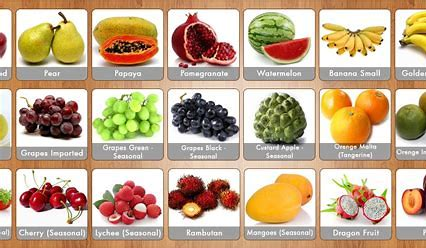inorganic: (169, 11, 237, 66), (248, 8, 313, 61), (328, 168, 389, 223), (248, 169, 313, 220), (323, 13, 393, 59), (94, 14, 161, 62), (19, 12, 83, 62), (322, 92, 389, 138), (170, 92, 238, 137), (20, 173, 84, 220), (17, 95, 86, 136), (95, 94, 161, 136), (95, 181, 162, 221), (252, 92, 306, 141), (176, 172, 237, 214), (399, 9, 426, 61), (399, 94, 426, 142), (402, 176, 426, 223)
